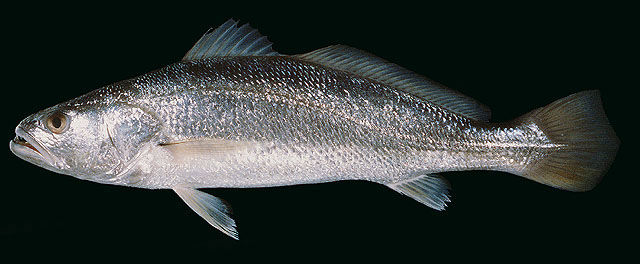fish: (9, 18, 620, 241)
